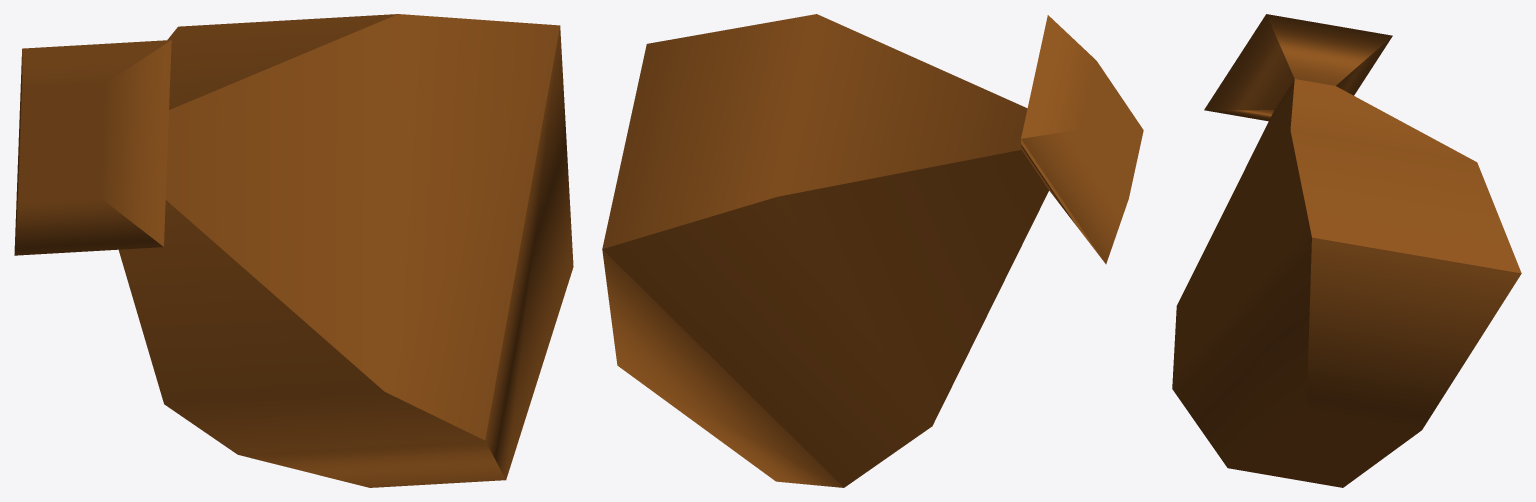
The model's file is vikinggeneraltheifsack_empty.fbx.
3 views of the same model, side by side, from view 1: azimuth 30°, elevation 25°; view 2: azimuth 150°, elevation 25°; view 3: azimuth 270°, elevation 25° (orthographic). The views are drawn at different scales.
Parts seen in each view (by area): view 1: polySurface193; view 2: polySurface193; view 3: polySurface193.
Part boxes in pixels (x1,y1,x2,y2): polySurface193: [14, 14, 573, 487]; polySurface193: [602, 14, 1143, 487]; polySurface193: [1172, 14, 1521, 487].
Size of the model in its own units: 23.3 by 22.13 by 18.11.
Materials: 1 (1 with a texture image).
